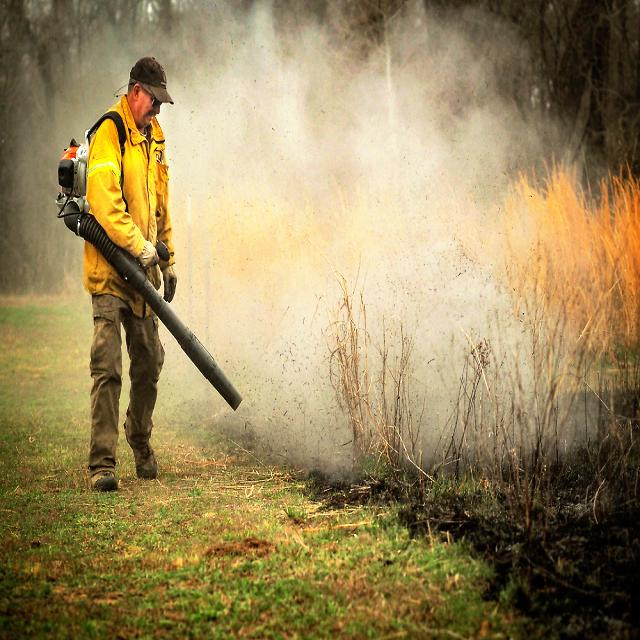asap: (1, 1, 597, 475)
